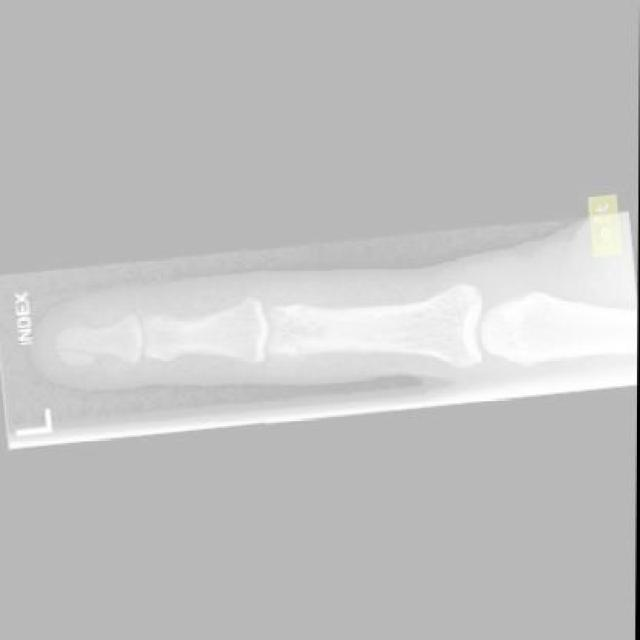Fracture: (54, 323, 101, 369)
